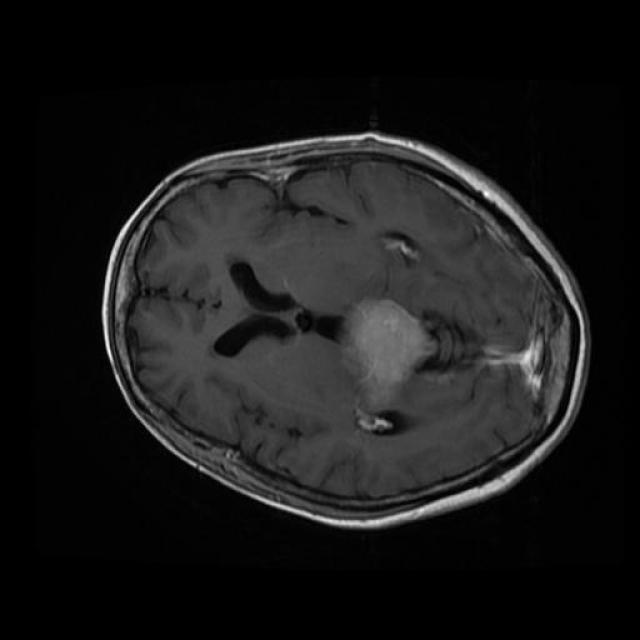Meningioma: (341, 299, 436, 414)
